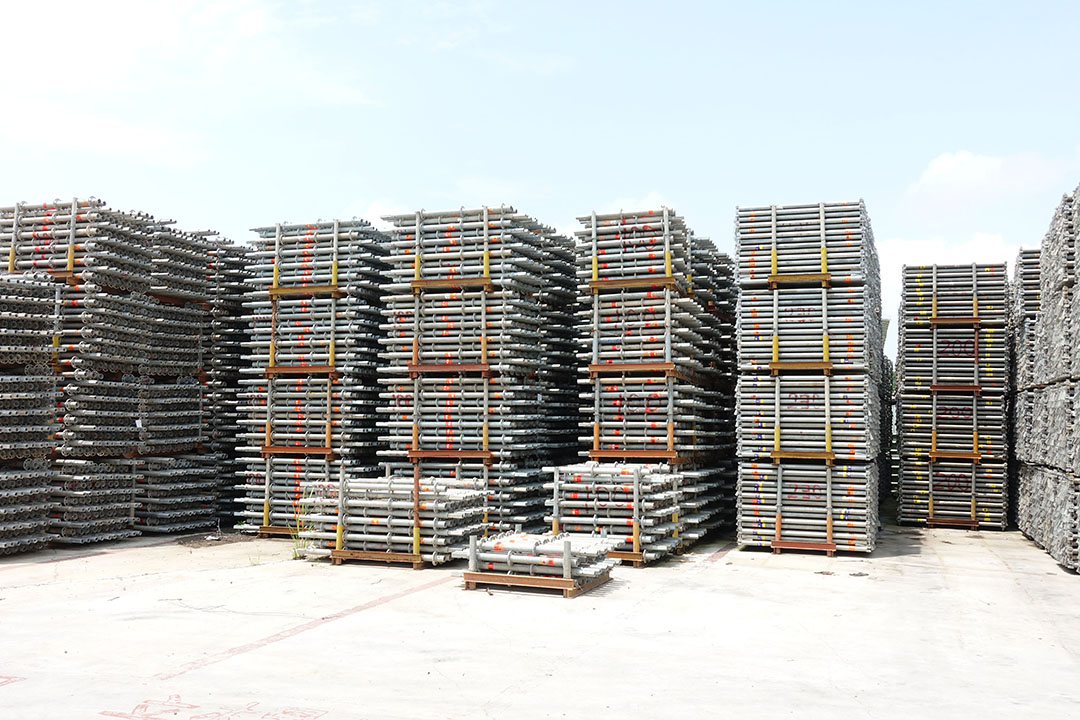building materials: (734, 460, 873, 558), (733, 373, 872, 465), (375, 375, 513, 464), (542, 465, 657, 567), (734, 287, 868, 374), (380, 290, 514, 376), (733, 203, 868, 287), (384, 206, 515, 290), (236, 376, 361, 460), (246, 214, 365, 298), (239, 300, 361, 378), (578, 291, 681, 375), (575, 211, 682, 290), (578, 379, 681, 461), (897, 459, 1008, 533), (897, 393, 1009, 464), (901, 328, 1007, 396), (900, 263, 1008, 327)
